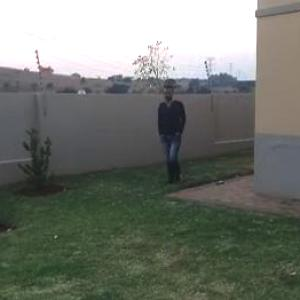follow: (157, 81, 192, 187)
